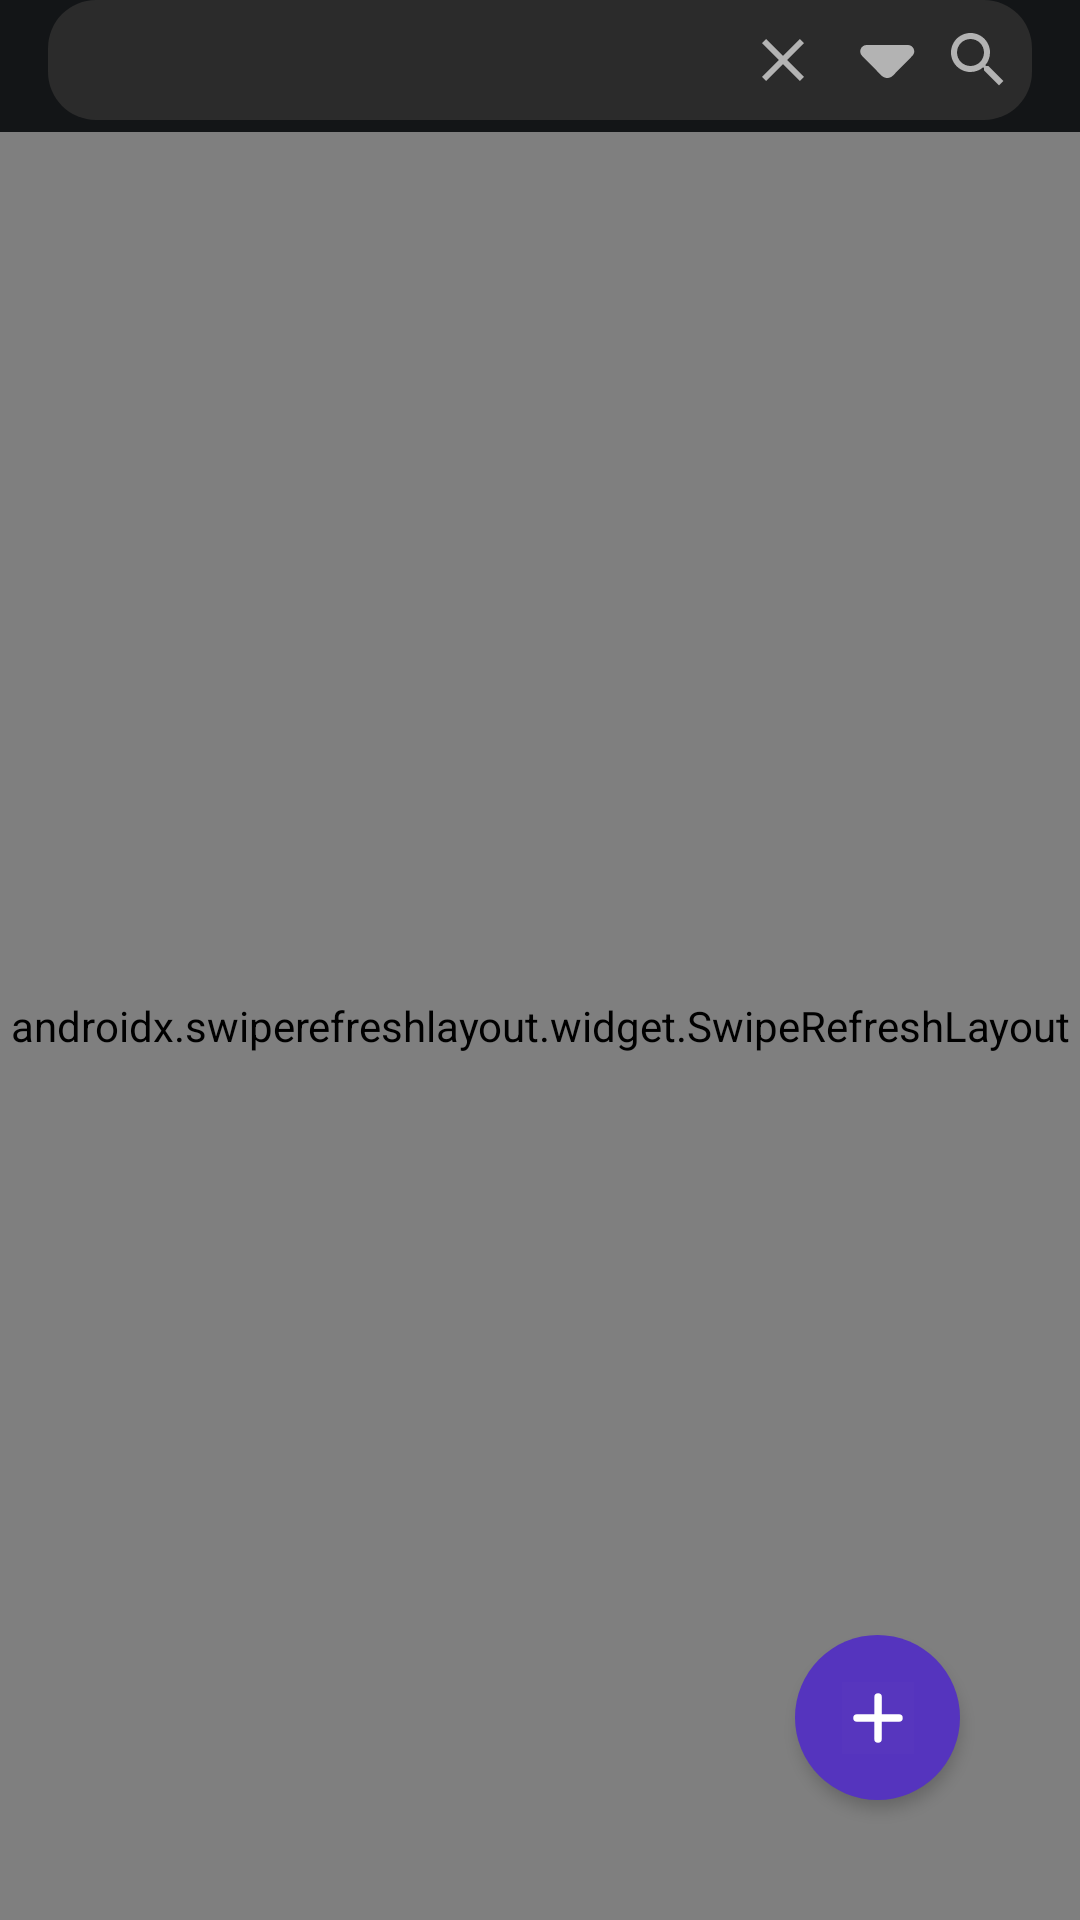

Icons on this 1080×1920 Android screen, each with its box as rect(x1, y1, x2, y2):
arrow down: rect(860, 45, 915, 78)
plus: rect(795, 1635, 960, 1800)
search: rect(951, 33, 1003, 85)
search tag clear: rect(762, 39, 804, 81)
